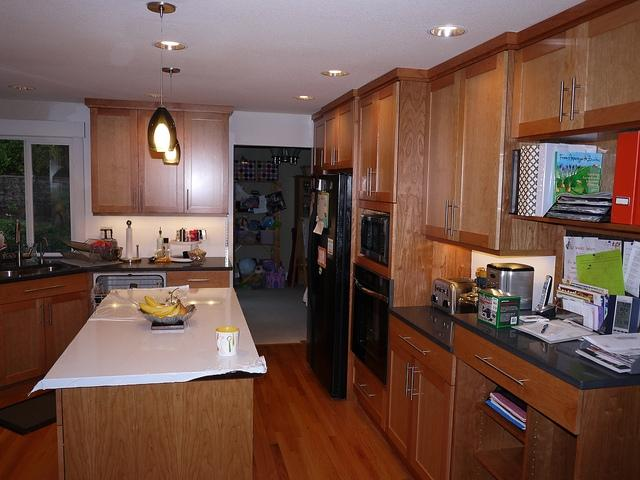banana: (138, 303, 178, 316), (157, 300, 180, 318), (144, 296, 170, 308)
